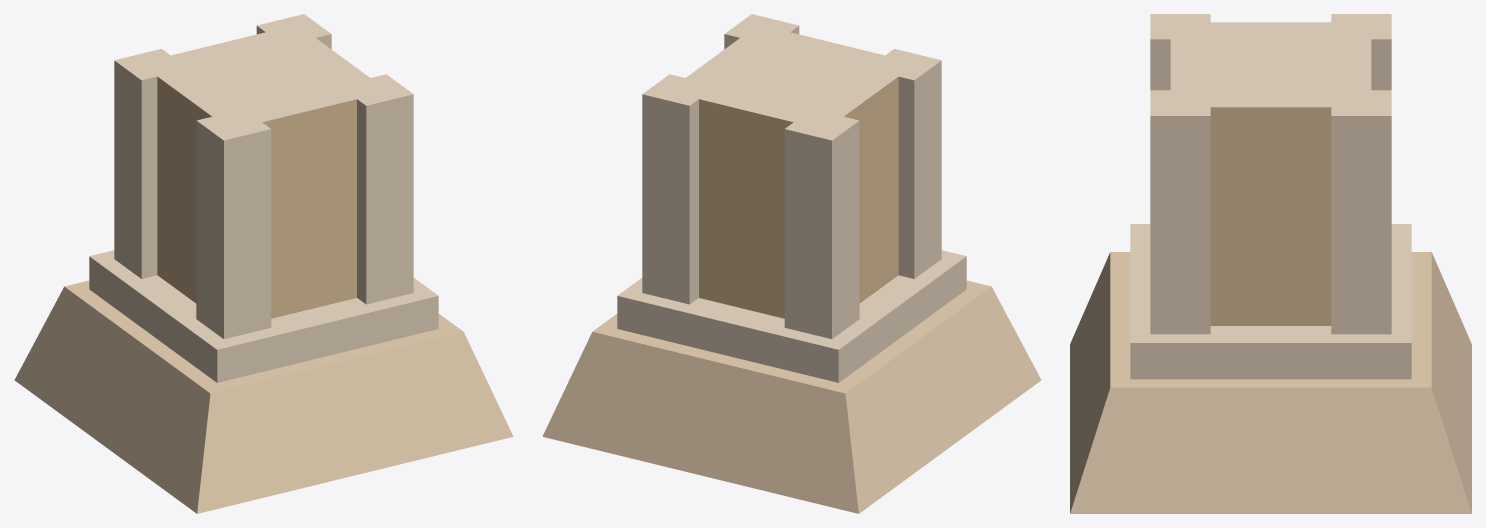
File: Pillar_Large_Base.glb
3 views of the same model, side by side, from view 1: azimuth 30°, elevation 25°; view 2: azimuth 150°, elevation 25°; view 3: azimuth 270°, elevation 25° (orthographic). The views are drawn at different scales.
Visible parts, largest first — view 1: Pillar_Large_Base; view 2: Pillar_Large_Base; view 3: Pillar_Large_Base.
Boxes of the visible parts, left/top/right/bottom form: Pillar_Large_Base: left=14, top=14, right=513, bottom=513; Pillar_Large_Base: left=542, top=14, right=1041, bottom=513; Pillar_Large_Base: left=1070, top=14, right=1471, bottom=513.
Bounding box in the file's own units: 1 × 1 × 1.
